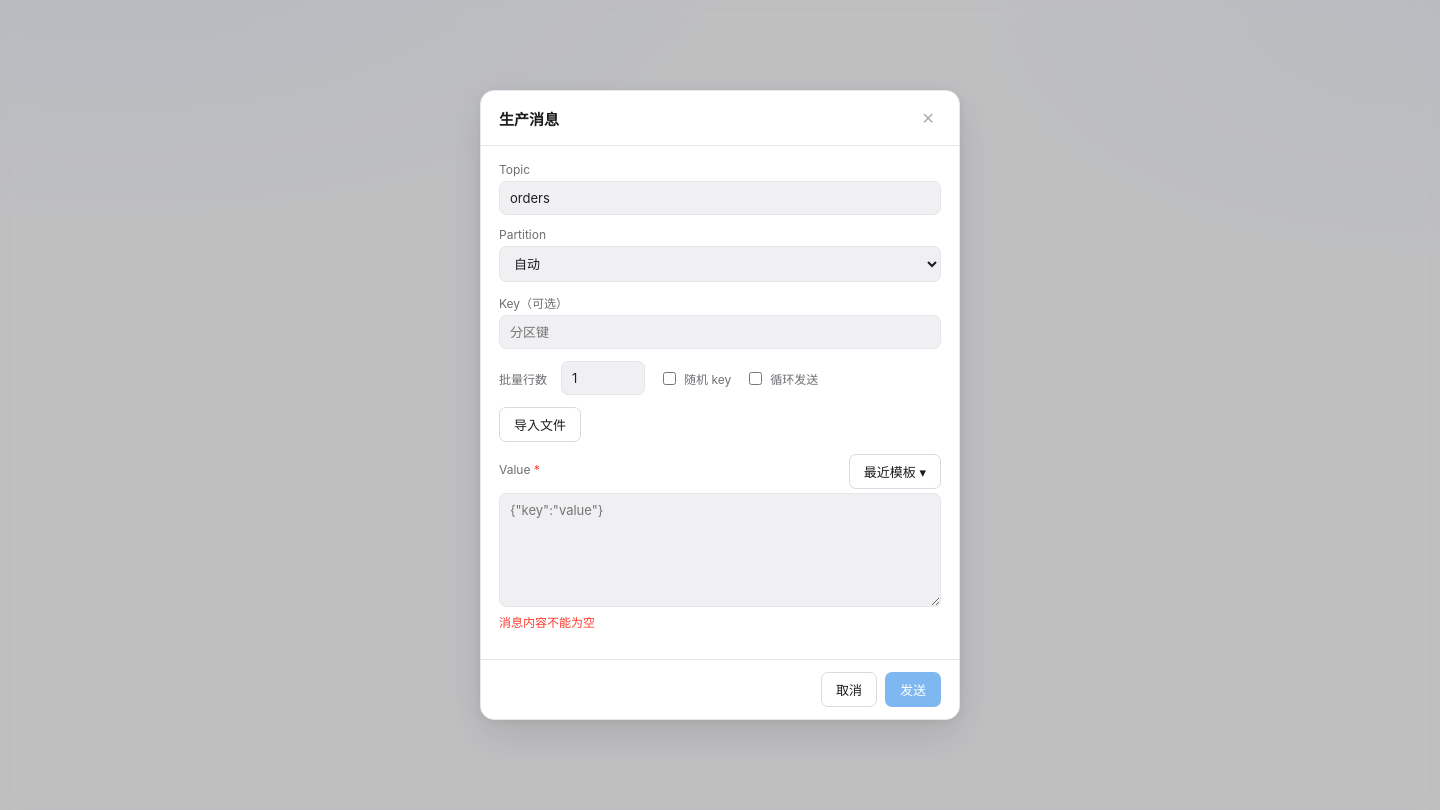
ProducerPanel › surfaces an error when array mode receives a non-array value
Step 1. Type "not json" into the text box with test id "input-value" → (720, 550), box top-left (499, 493), bottom-right (941, 607)
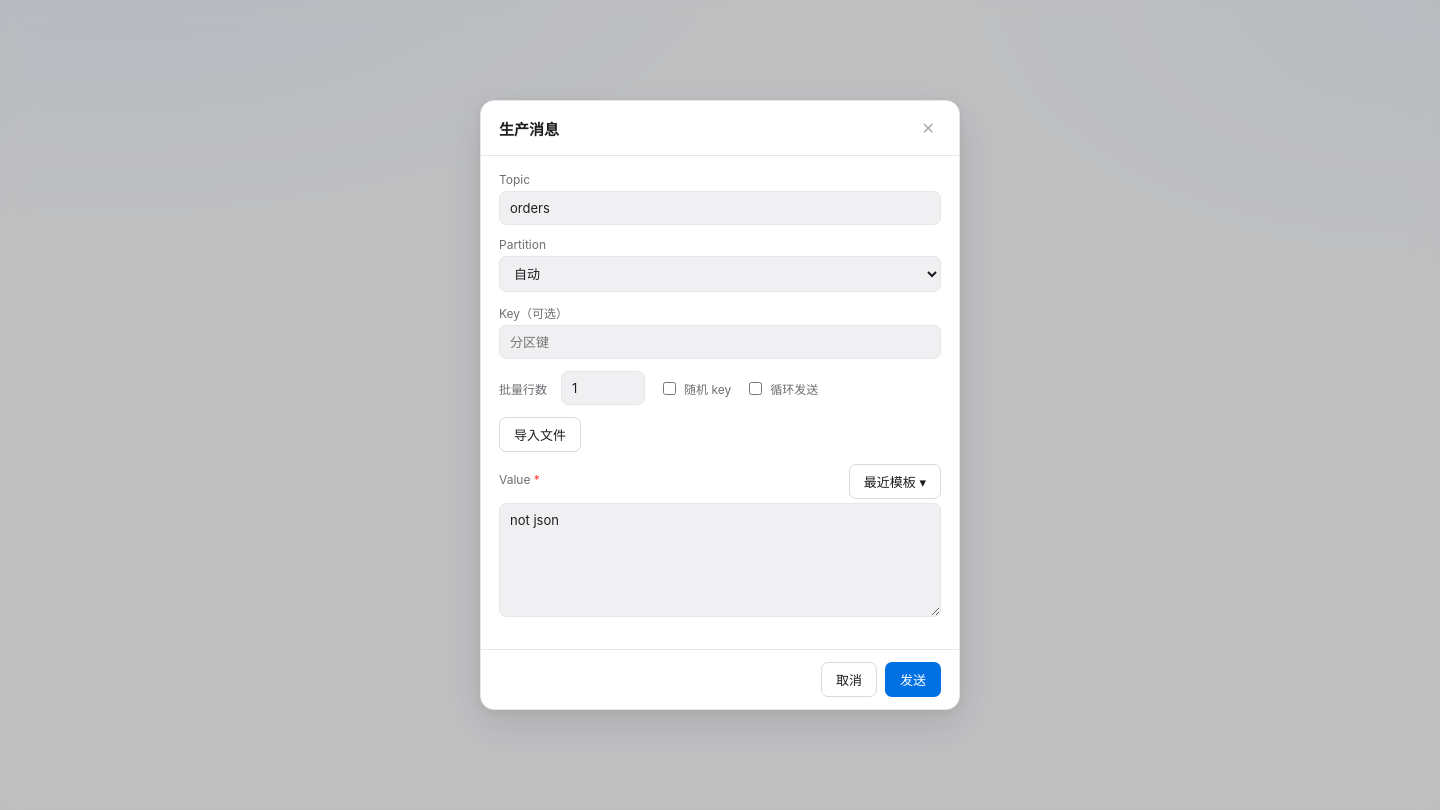
Step 2. Replace the text in the number field with test id "input-count" with "2" → (603, 388), box top-left (561, 371), bottom-right (645, 405)
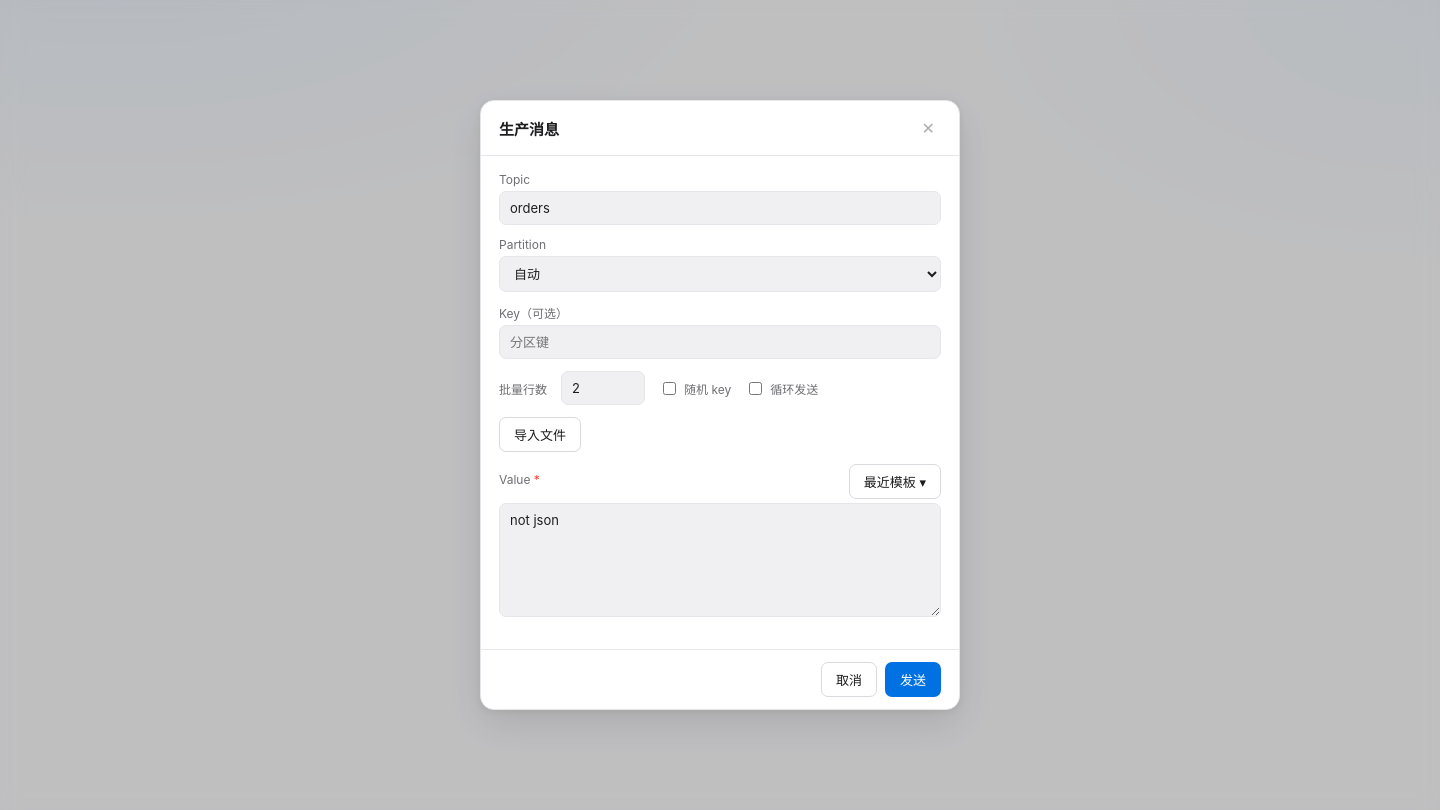
Step 3. Click the button with test id "btn-produce" → (913, 680), box top-left (885, 662), bottom-right (941, 697)
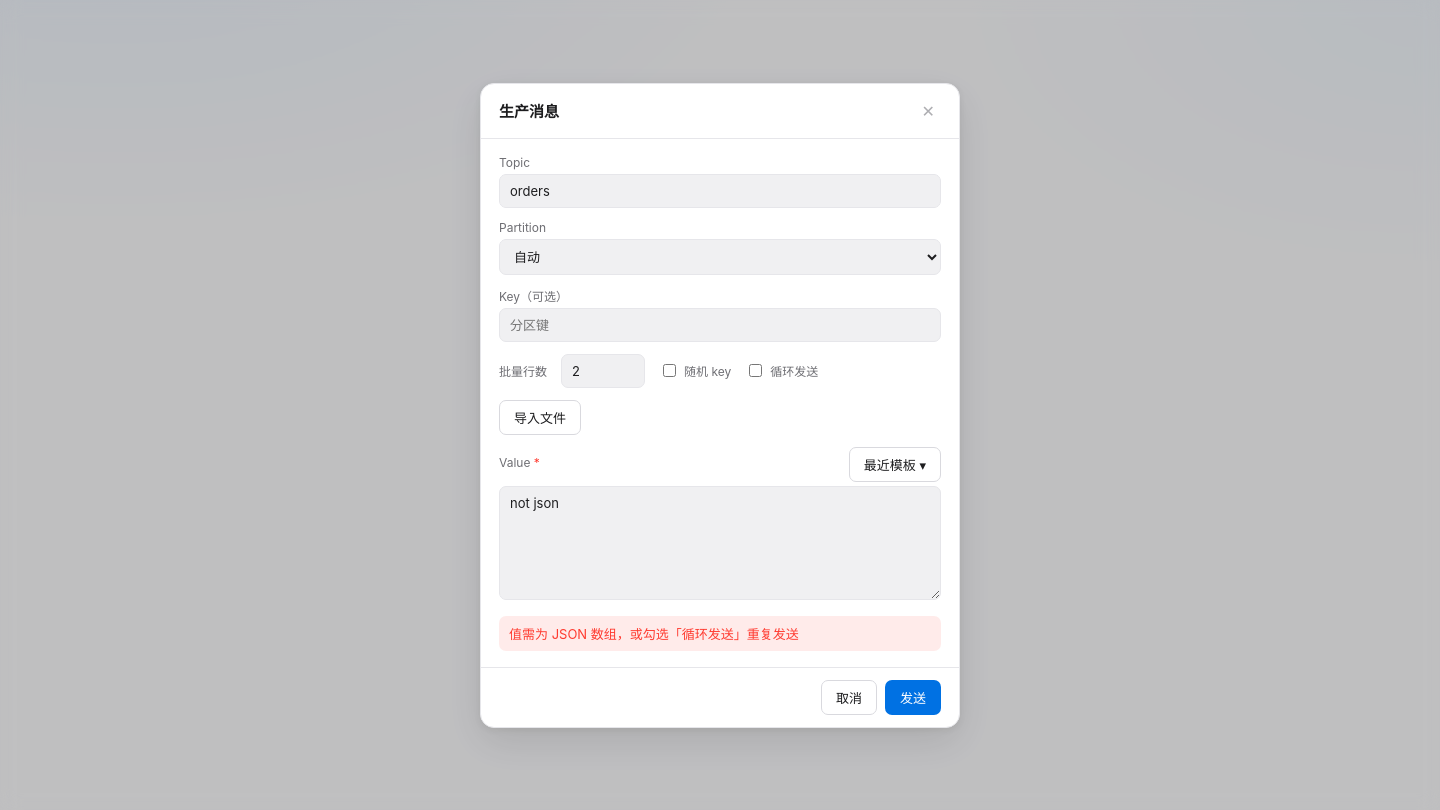
Check: the text "值需为 JSON 数组，或勾选「循环发送」重复发送" is shown, box top-left (499, 616), bottom-right (941, 650)
